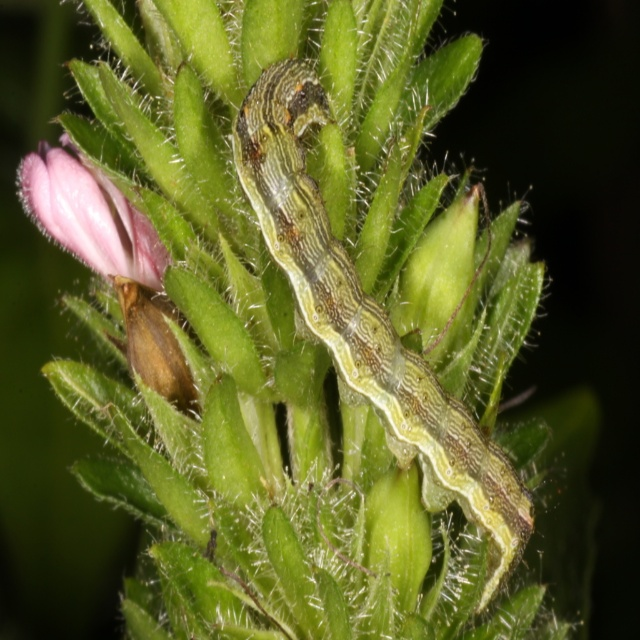Caterpillar: (227, 61, 538, 559)
